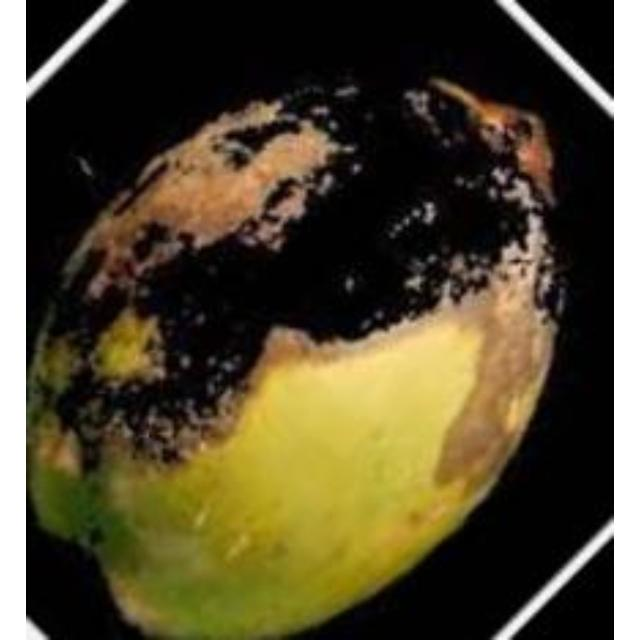damaged: (26, 63, 584, 635)
